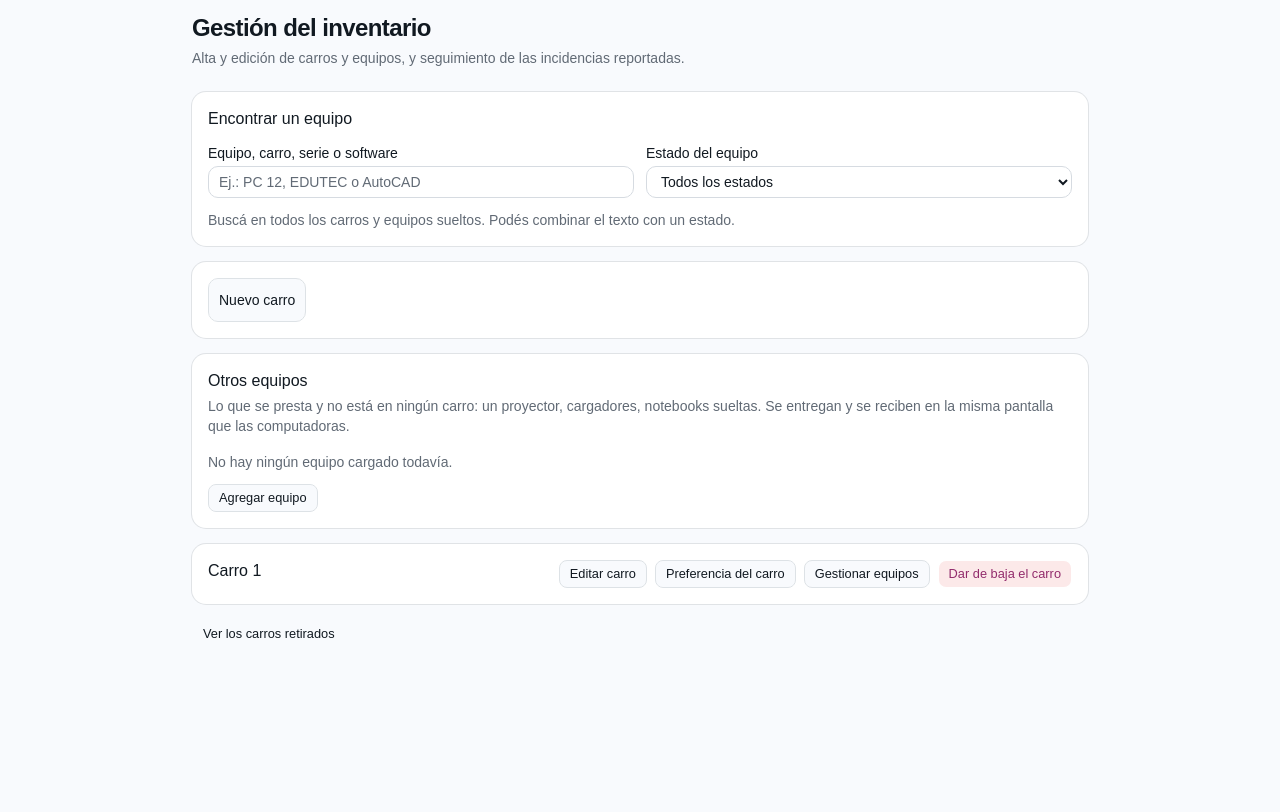
Test case: InventarioAdminPage › permite reintentar la búsqueda fallida sin mostrar resultados vacíos
The width and height of the screenshot is (1280, 812).
Type "PC" into the field labelled "Equipo, carro, serie o software". click: (421, 182)
box: [208,166,634,198]
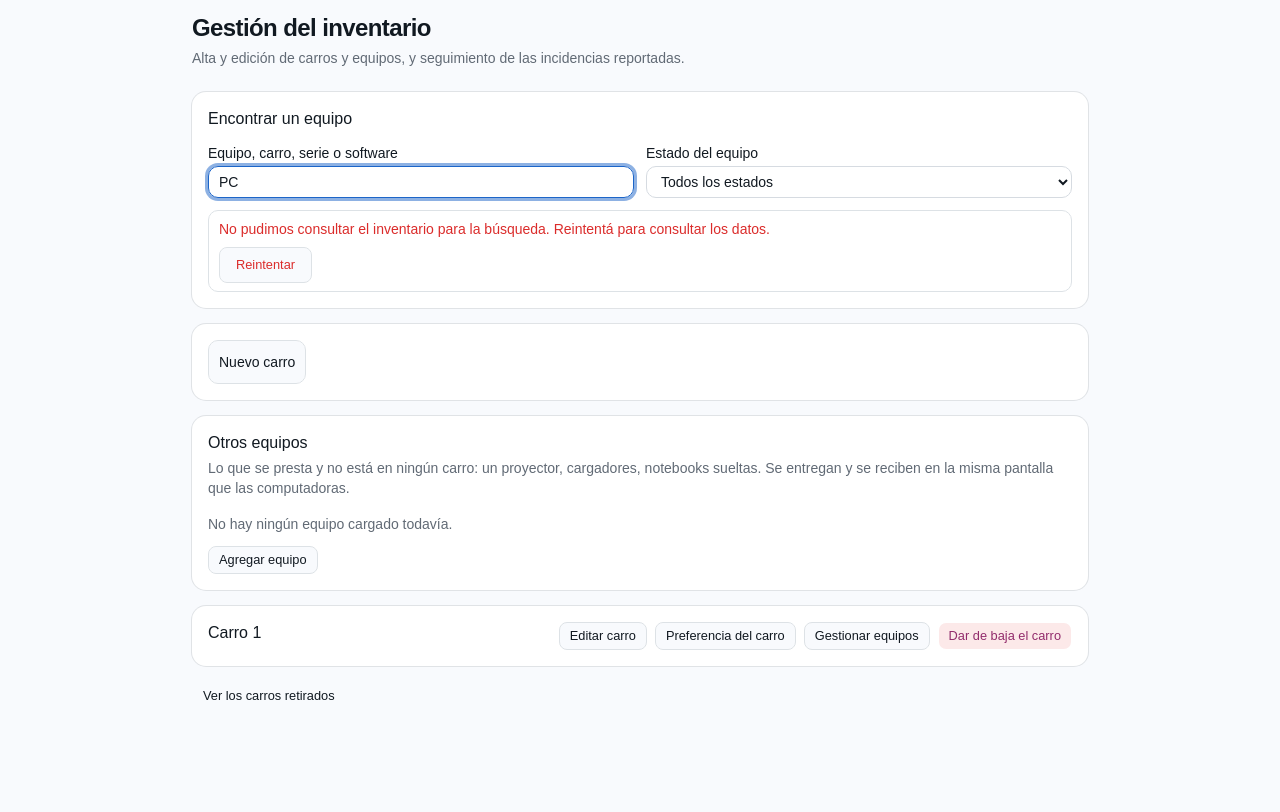
Now the message shows "No pudimos consultar el inventario", box [219,221,550,237]
Click the button "Reintentar". click: (266, 265)
box: [219,247,312,283]
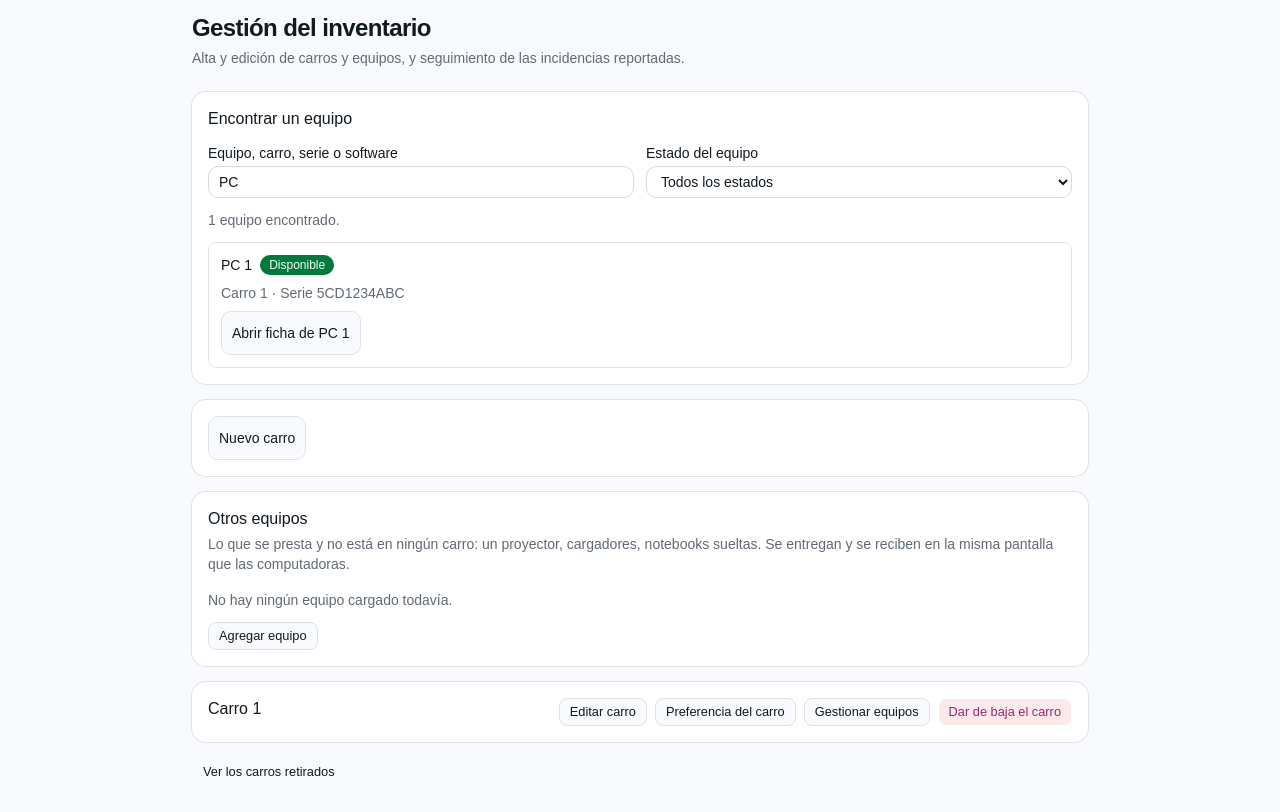
Now the button "Abrir ficha de PC 1" is shown, box [221,311,360,355]
